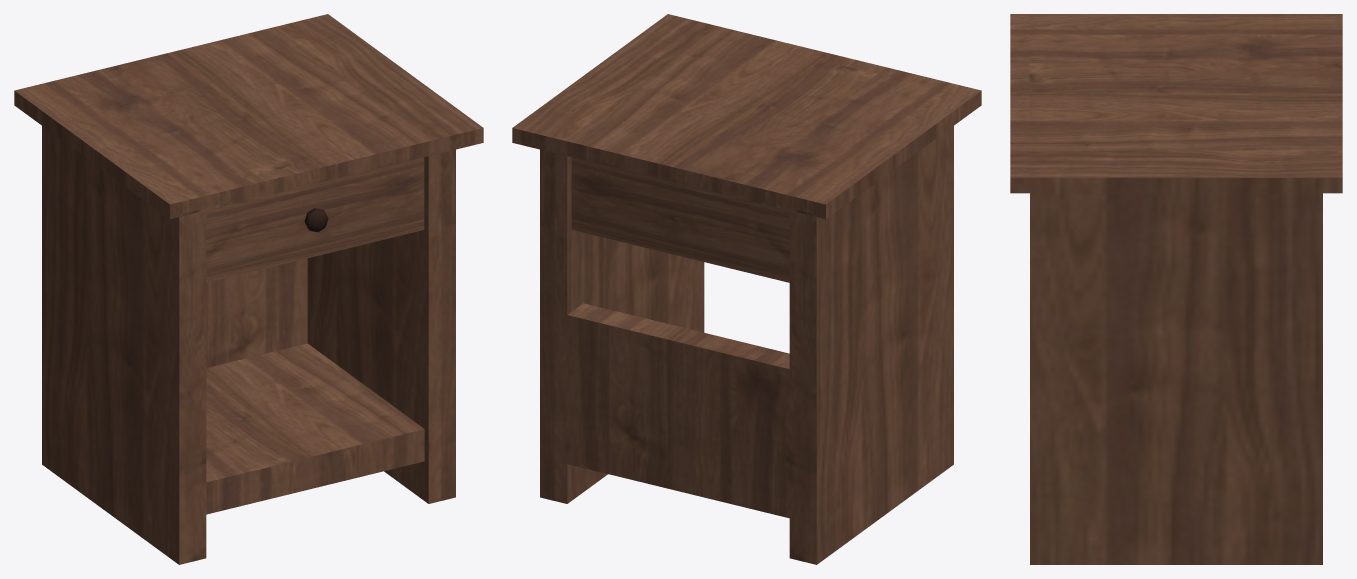
File: ps1_style_nightstand.glb
3 views of the same model, side by side, from view 1: azimuth 30°, elevation 25°; view 2: azimuth 150°, elevation 25°; view 3: azimuth 270°, elevation 25° (orthographic). The views are drawn at different scales.
Visible parts, largest first — view 1: Nightstand, Nightstand drawer; view 2: Nightstand, Nightstand drawer; view 3: Nightstand.
Part boxes in pixels (x1,y1,x2,y2): Nightstand: (14,14,483,564); Nightstand drawer: (206,157,424,282); Nightstand: (512,14,981,564); Nightstand drawer: (571,157,789,282); Nightstand: (1010,14,1342,564).
Size of the model in its own units: 0.5864 by 0.6641 by 0.5041.
Materials: 2 (1 with a texture image).
